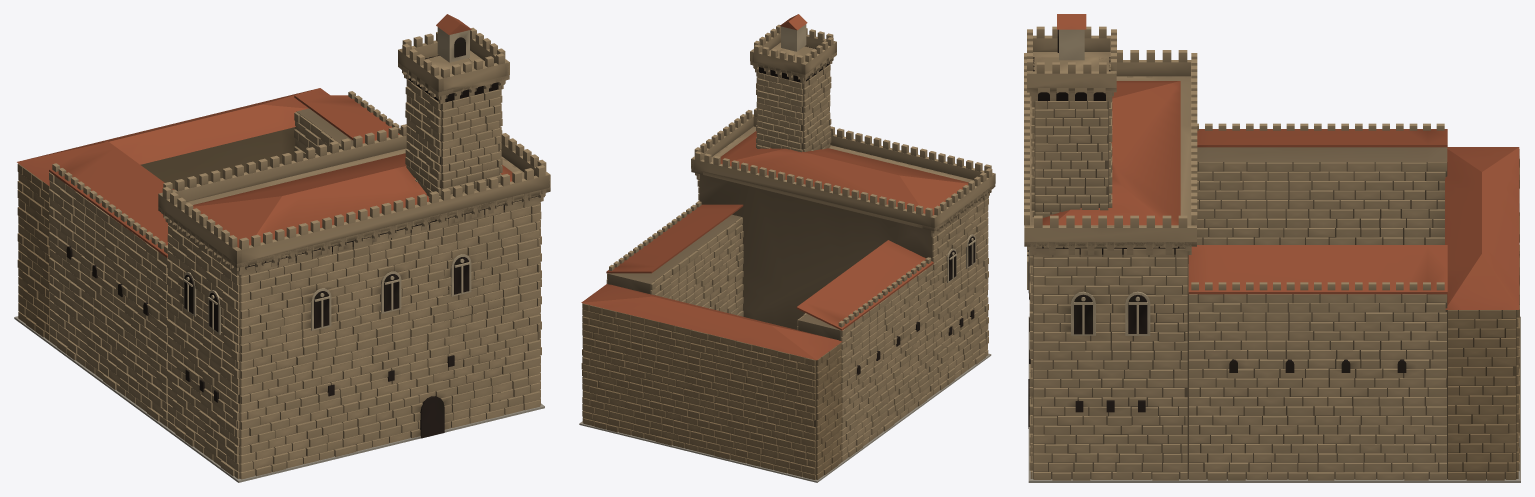
Rendered from bargello.glb.
3 renders of one model, left to right at view 1: azimuth 30°, elevation 25°; view 2: azimuth 150°, elevation 25°; view 3: azimuth 270°, elevation 25°, orthographic. The views are drawn at different scales.
Parts seen in each view (by area): view 1: p0_walls, p1_battlements, p2_tower; view 2: p0_walls, p1_battlements, p2_tower; view 3: p0_walls, p1_battlements, p2_tower.
Boxes of the visible parts, x1=… form: p0_walls: x1=14, y1=108, x2=544, y2=482; p1_battlements: x1=17, y1=88, x2=550, y2=275; p2_tower: x1=398, y1=14, x2=509, y2=423; p0_walls: x1=579, y1=174, x2=991, y2=482; p1_battlements: x1=581, y1=108, x2=995, y2=360; p2_tower: x1=750, y1=14, x2=836, y2=152; p0_walls: x1=1027, y1=147, x2=1520, y2=482; p1_battlements: x1=1024, y1=50, x2=1519, y2=309; p2_tower: x1=1027, y1=14, x2=1116, y2=397.
Bounding box in the file's own units: 46.05 × 55.02 × 57.52.
